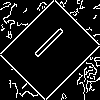I: (24, 24, 67, 67)
